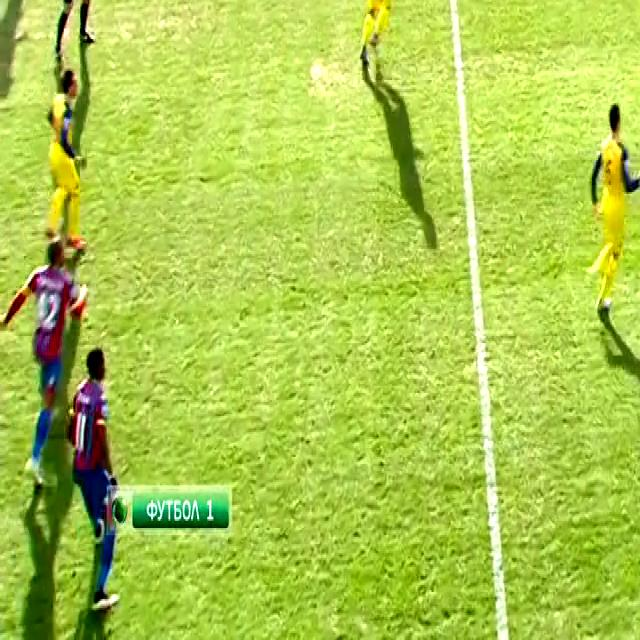referee: (45, 0, 100, 68)
soccer-player: (52, 345, 123, 640), (3, 237, 80, 484), (585, 85, 639, 322), (40, 59, 92, 251), (357, 0, 394, 71)
